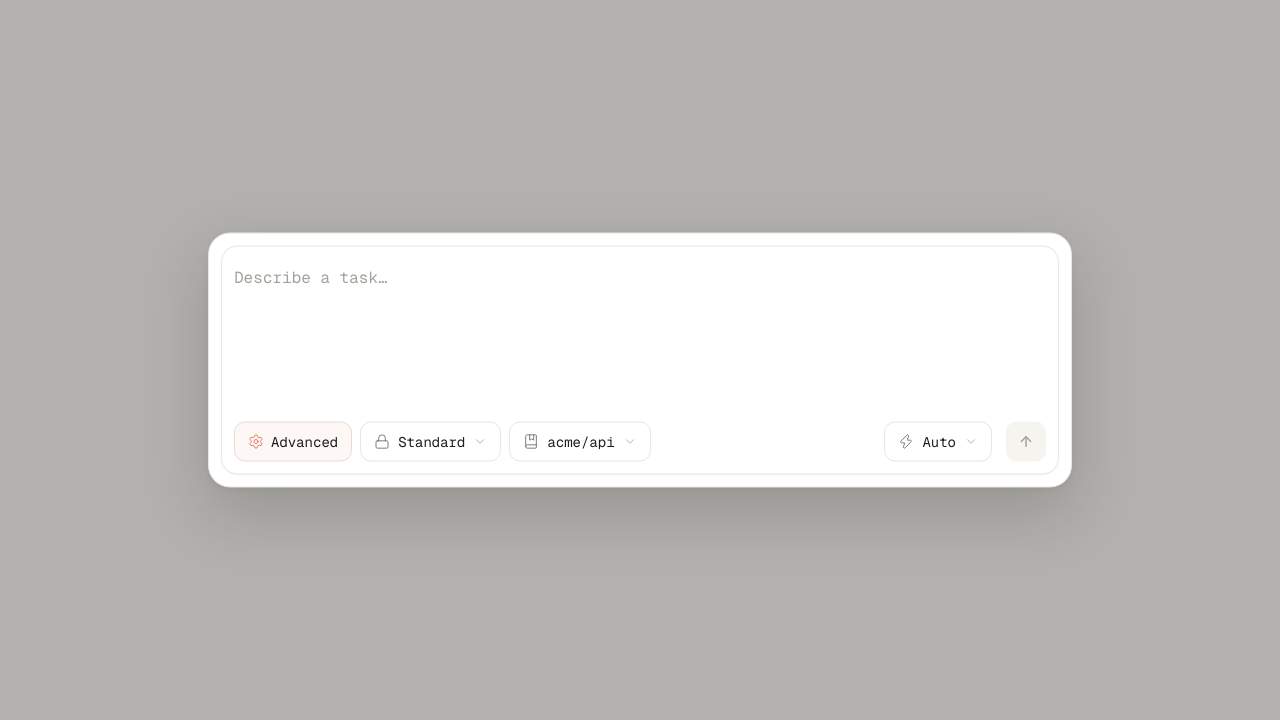
Scenario: LaunchTaskModal (minimal box) › offers the Network access control on the Deep tier, defaulting to Off
The width and height of the screenshot is (1280, 720).
Type "Wire the thing" into the text box with placeholder "Describe a task…" at (640, 332), box [234,262,1046,402]
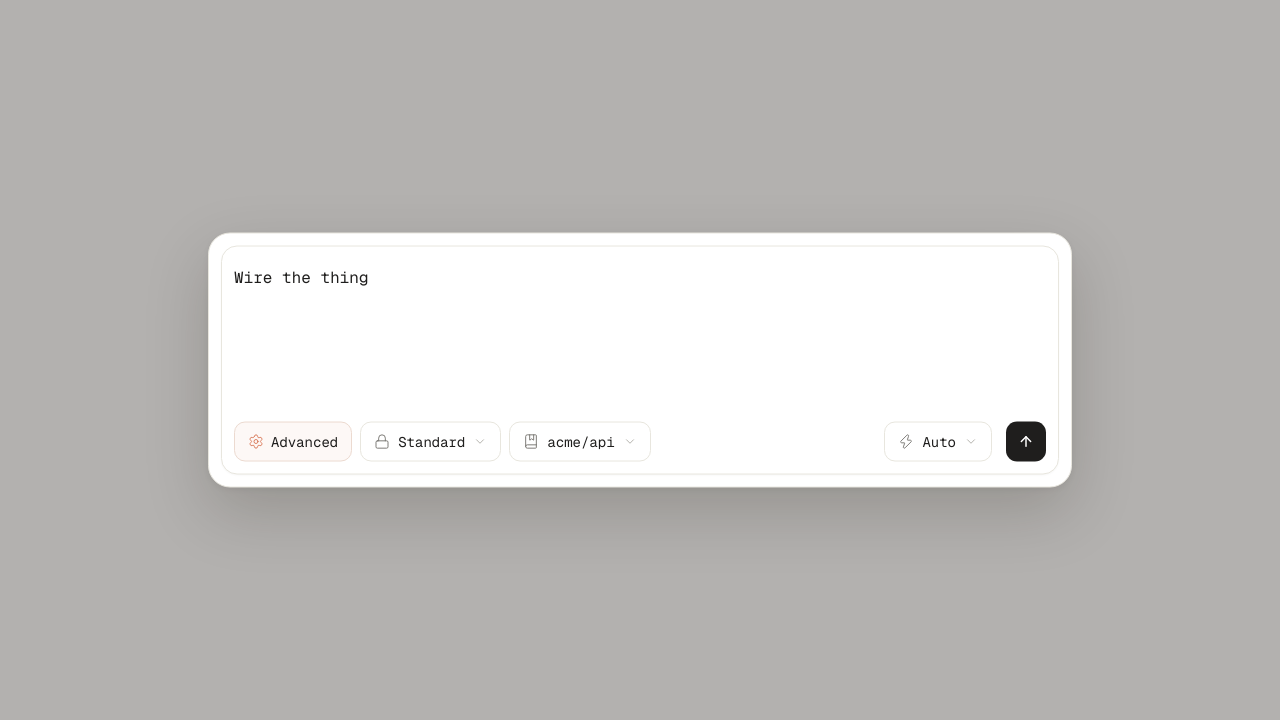
Click the button titled "Model and effort" at (938, 442), box [884,422,992,462]
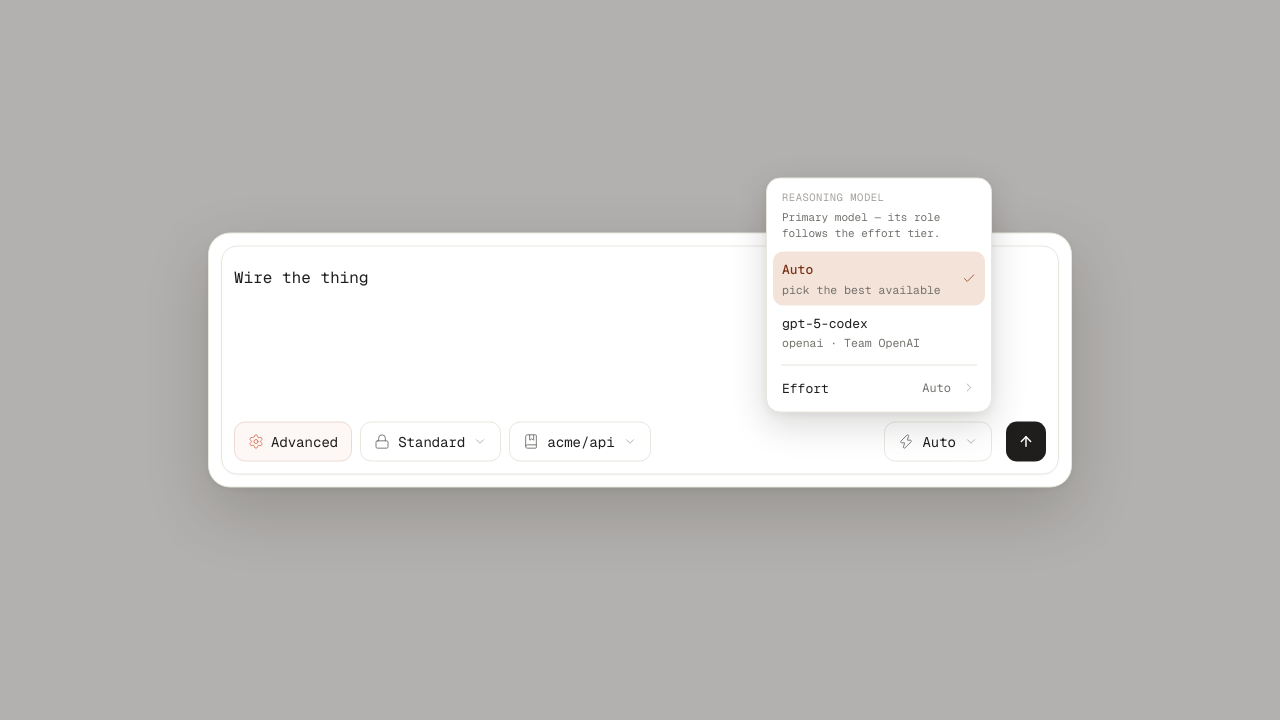
Click the text "Effort" at (805, 388), box [782,379,829,396]
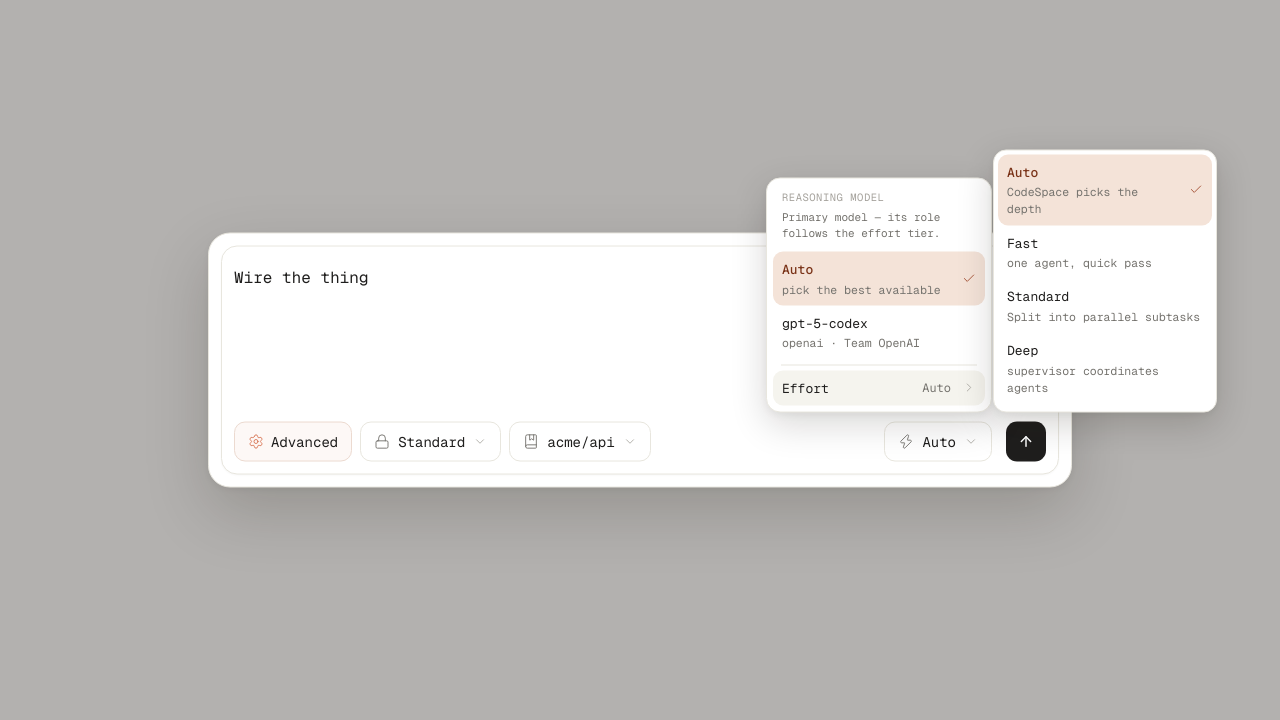
Click the text "Deep" at (1023, 350), box [1007,342,1038,358]
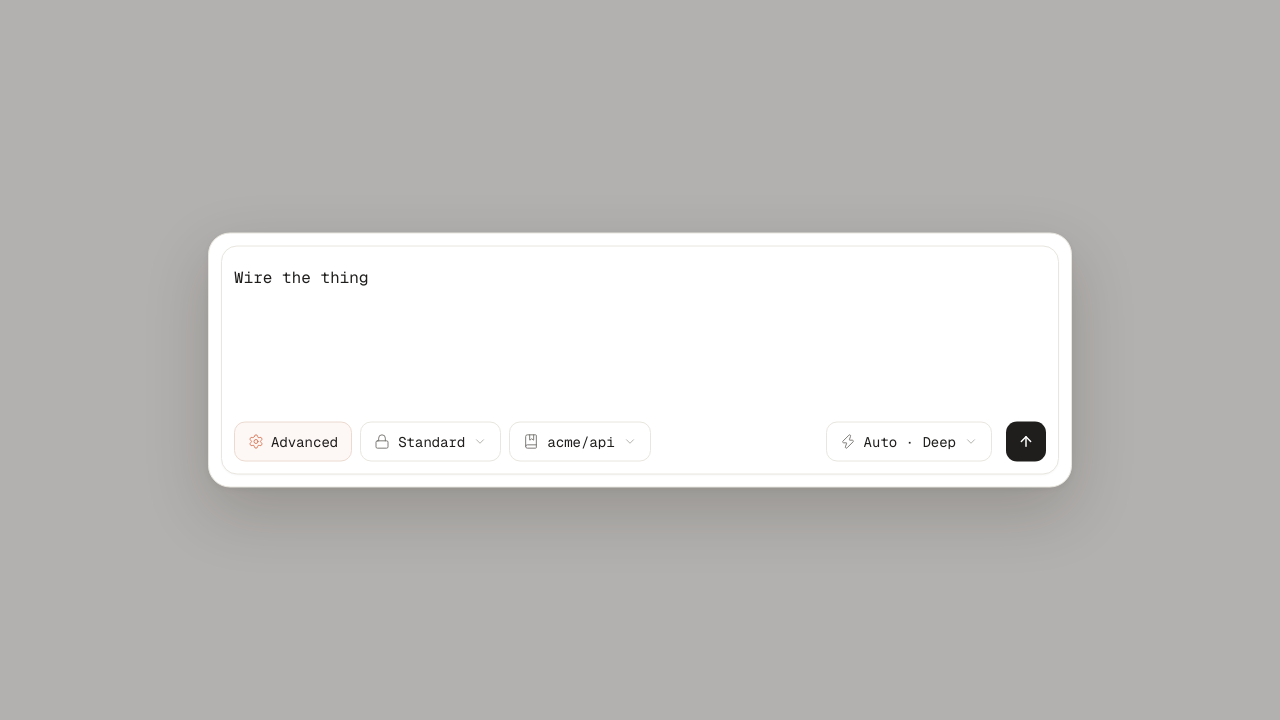
Click the button "Advanced" at (293, 442), box [234,422,352,462]
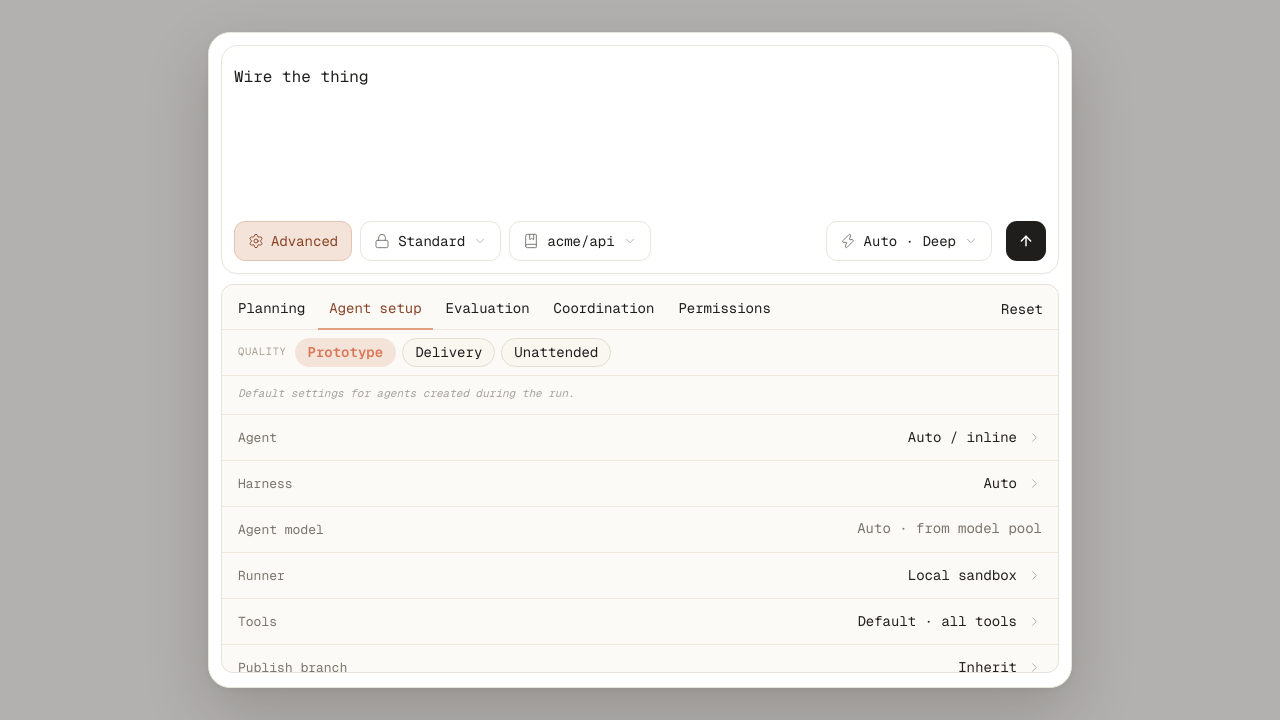
Click the button "Permissions" at (725, 310), box [667,289,782,330]
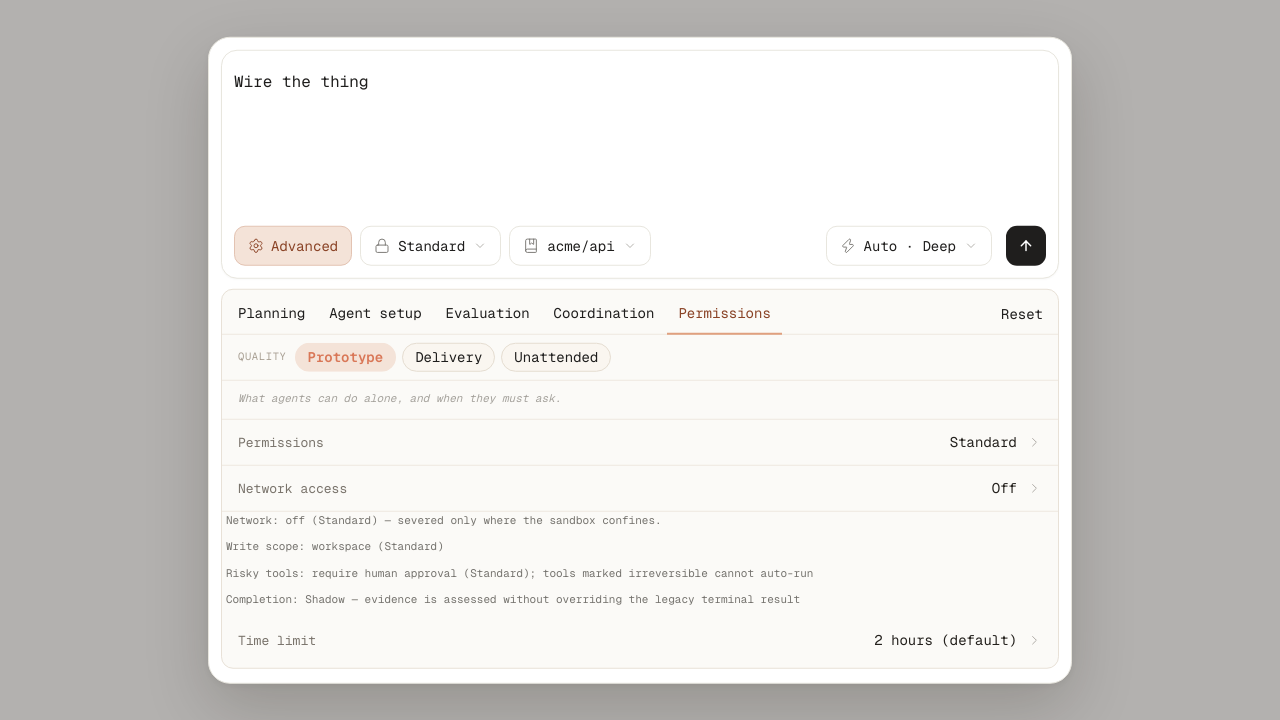
Check: the button "Network access Off" is shown, box [222,466,1058,512]
Check: the text with test id "network-posture" shows "Network: off (Standard)", box [226,514,662,528]
